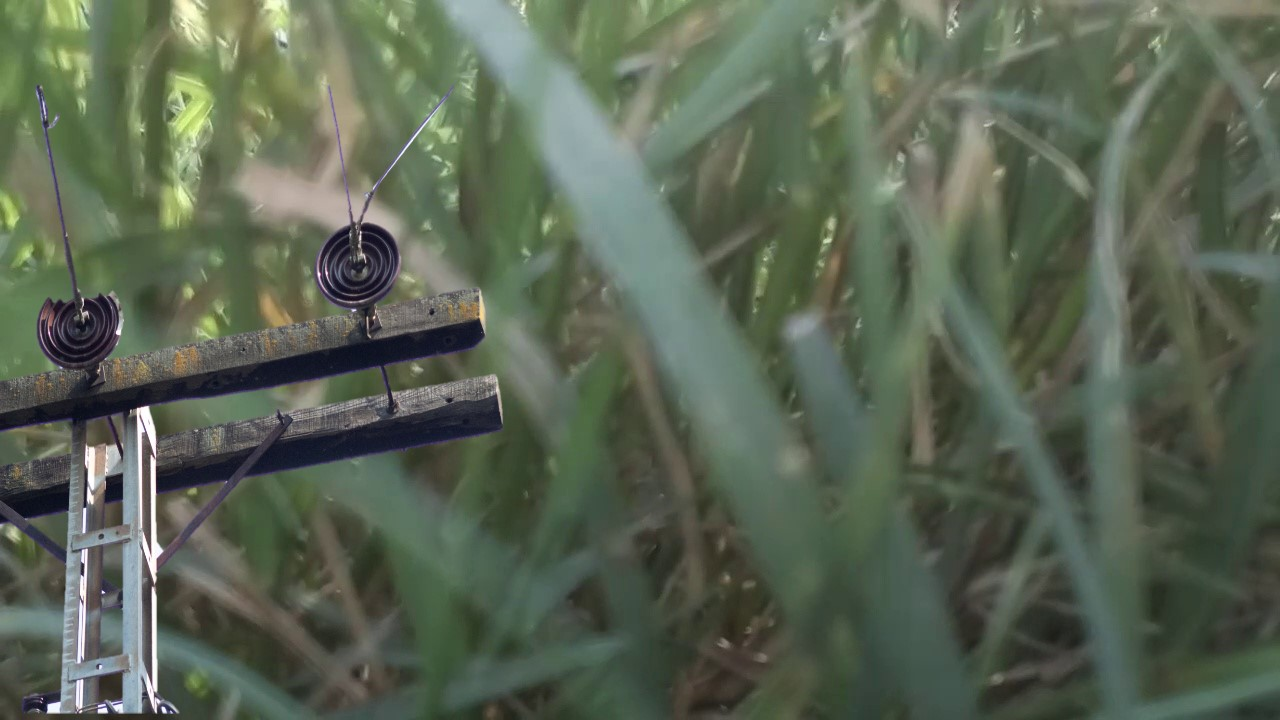defect_disc: (32, 287, 129, 361)
insulator_disc: (315, 215, 405, 308)
